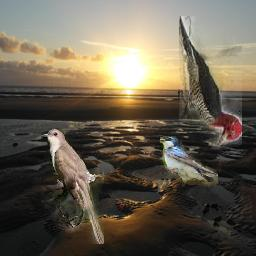Cuckoo: (42, 128, 105, 244)
Swallow: (160, 137, 218, 188)
Woodpecker: (180, 16, 243, 150)
